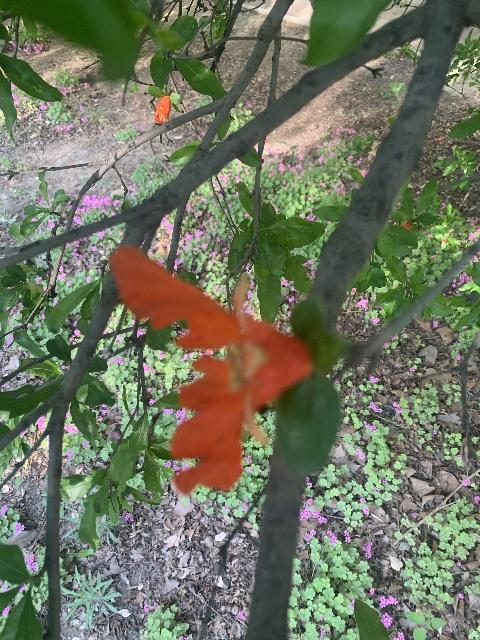flower: (110, 246, 314, 496), (153, 95, 171, 124)
